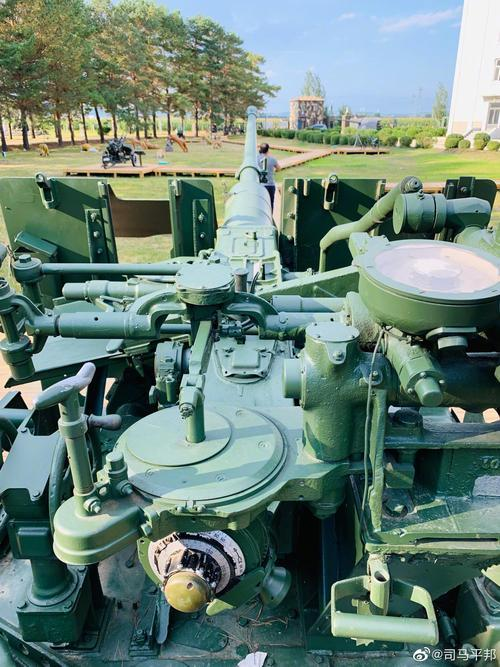MIL_SPG: (0, 108, 500, 667)
